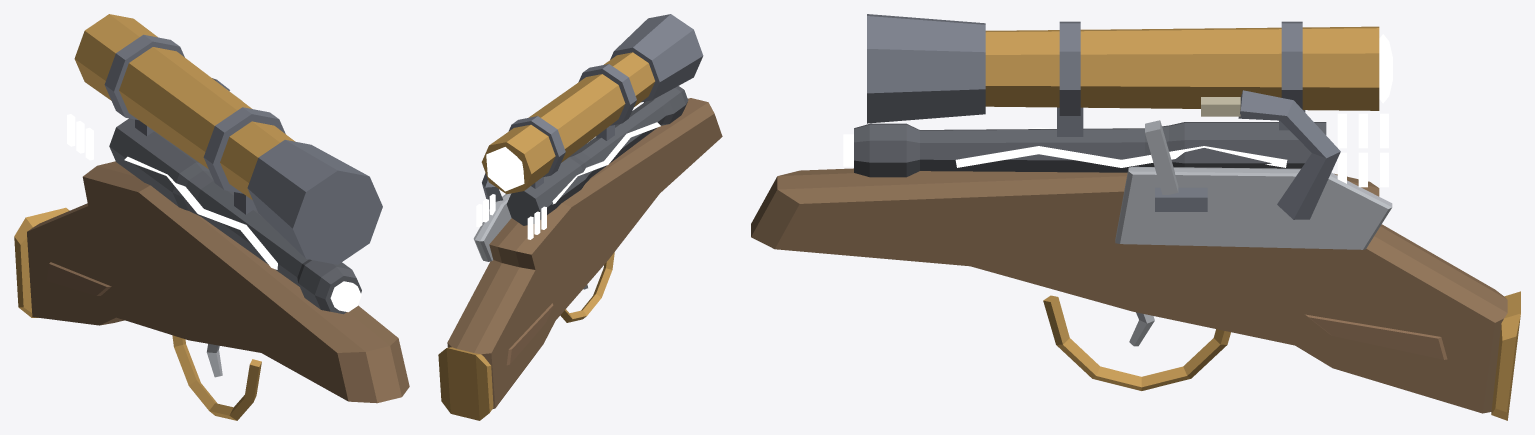
The model's file is gun-night-glass.glb.
The picture shows the model from 3 angles, left to right: view 1: azimuth 30°, elevation 25°; view 2: azimuth 150°, elevation 25°; view 3: azimuth 270°, elevation 25°; orthographic projection. The views are drawn at different scales.
Visible parts, largest first — view 1: gun-night-glass, pulse_vein, pulse_breath; view 2: gun-night-glass, pulse_breath, pulse_vein; view 3: gun-night-glass, pulse_vein, pulse_breath.
Part boxes in pixels (bbox=[...]): gun-night-glass: bbox=[14, 14, 409, 420]; pulse_vein: bbox=[124, 156, 277, 269]; pulse_breath: bbox=[67, 114, 93, 160]; gun-night-glass: bbox=[438, 14, 722, 420]; pulse_breath: bbox=[476, 194, 546, 239]; pulse_vein: bbox=[552, 122, 660, 204]; gun-night-glass: bbox=[751, 14, 1520, 420]; pulse_vein: bbox=[955, 127, 1287, 167]; pulse_breath: bbox=[1337, 113, 1388, 187].
Size of the model in its own units: 0.1042 by 0.3296 by 0.5838.
